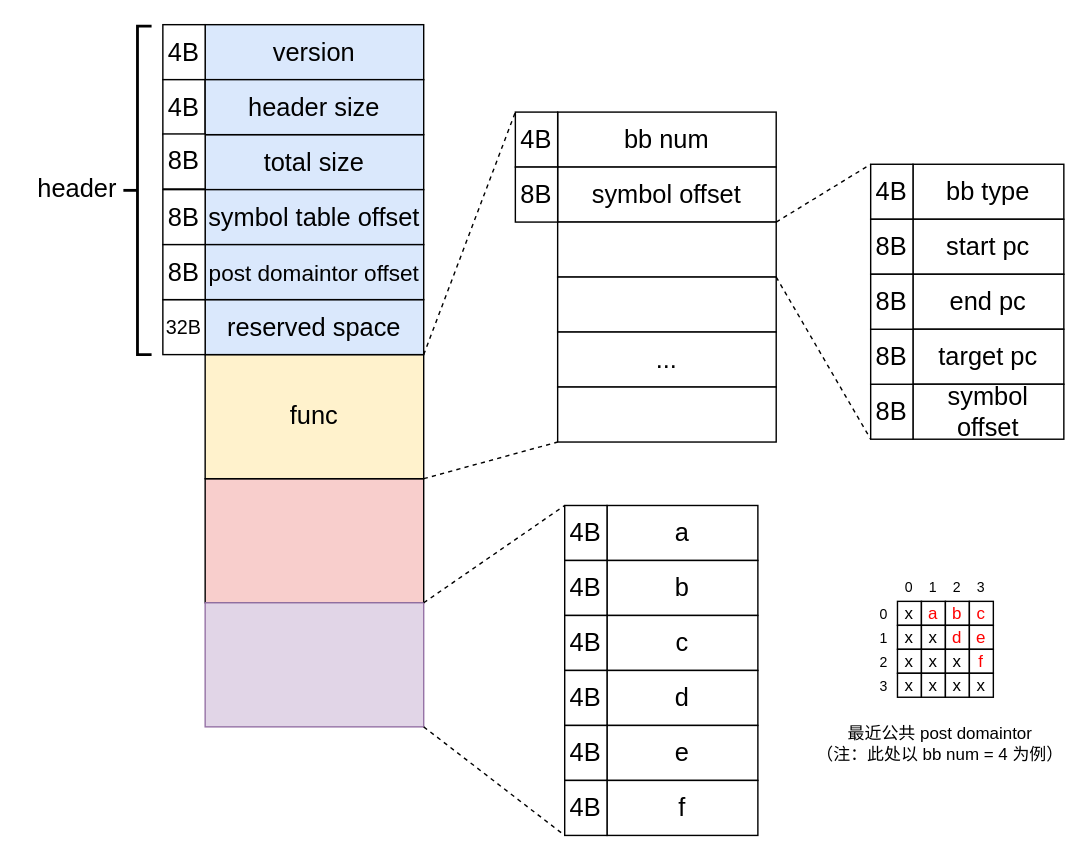
This 1091x862 diagram has some shape labels left out. Here are the shapes that lost their labels. From the top down, the centre of each, then its label:
point (666, 249): bb 0
point (666, 304): bb 1
point (666, 414): bb n
point (314, 540): symbol table
point (314, 664): post domaintor
